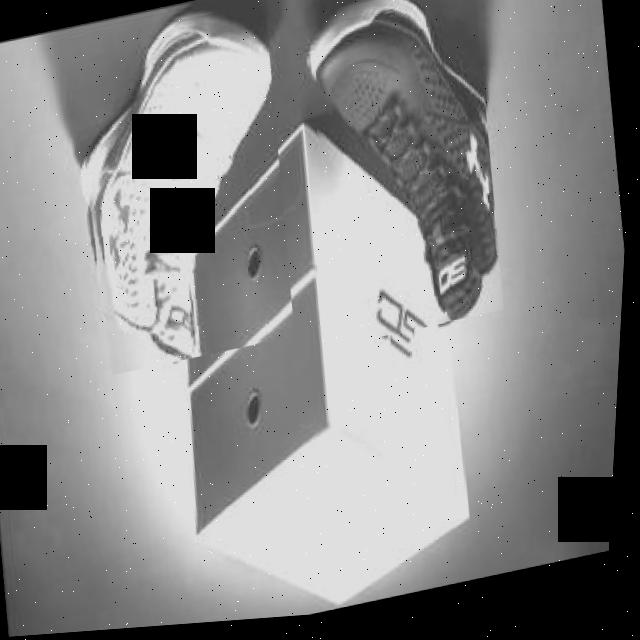shoe: (56, 0, 313, 382), (289, 0, 522, 357)
